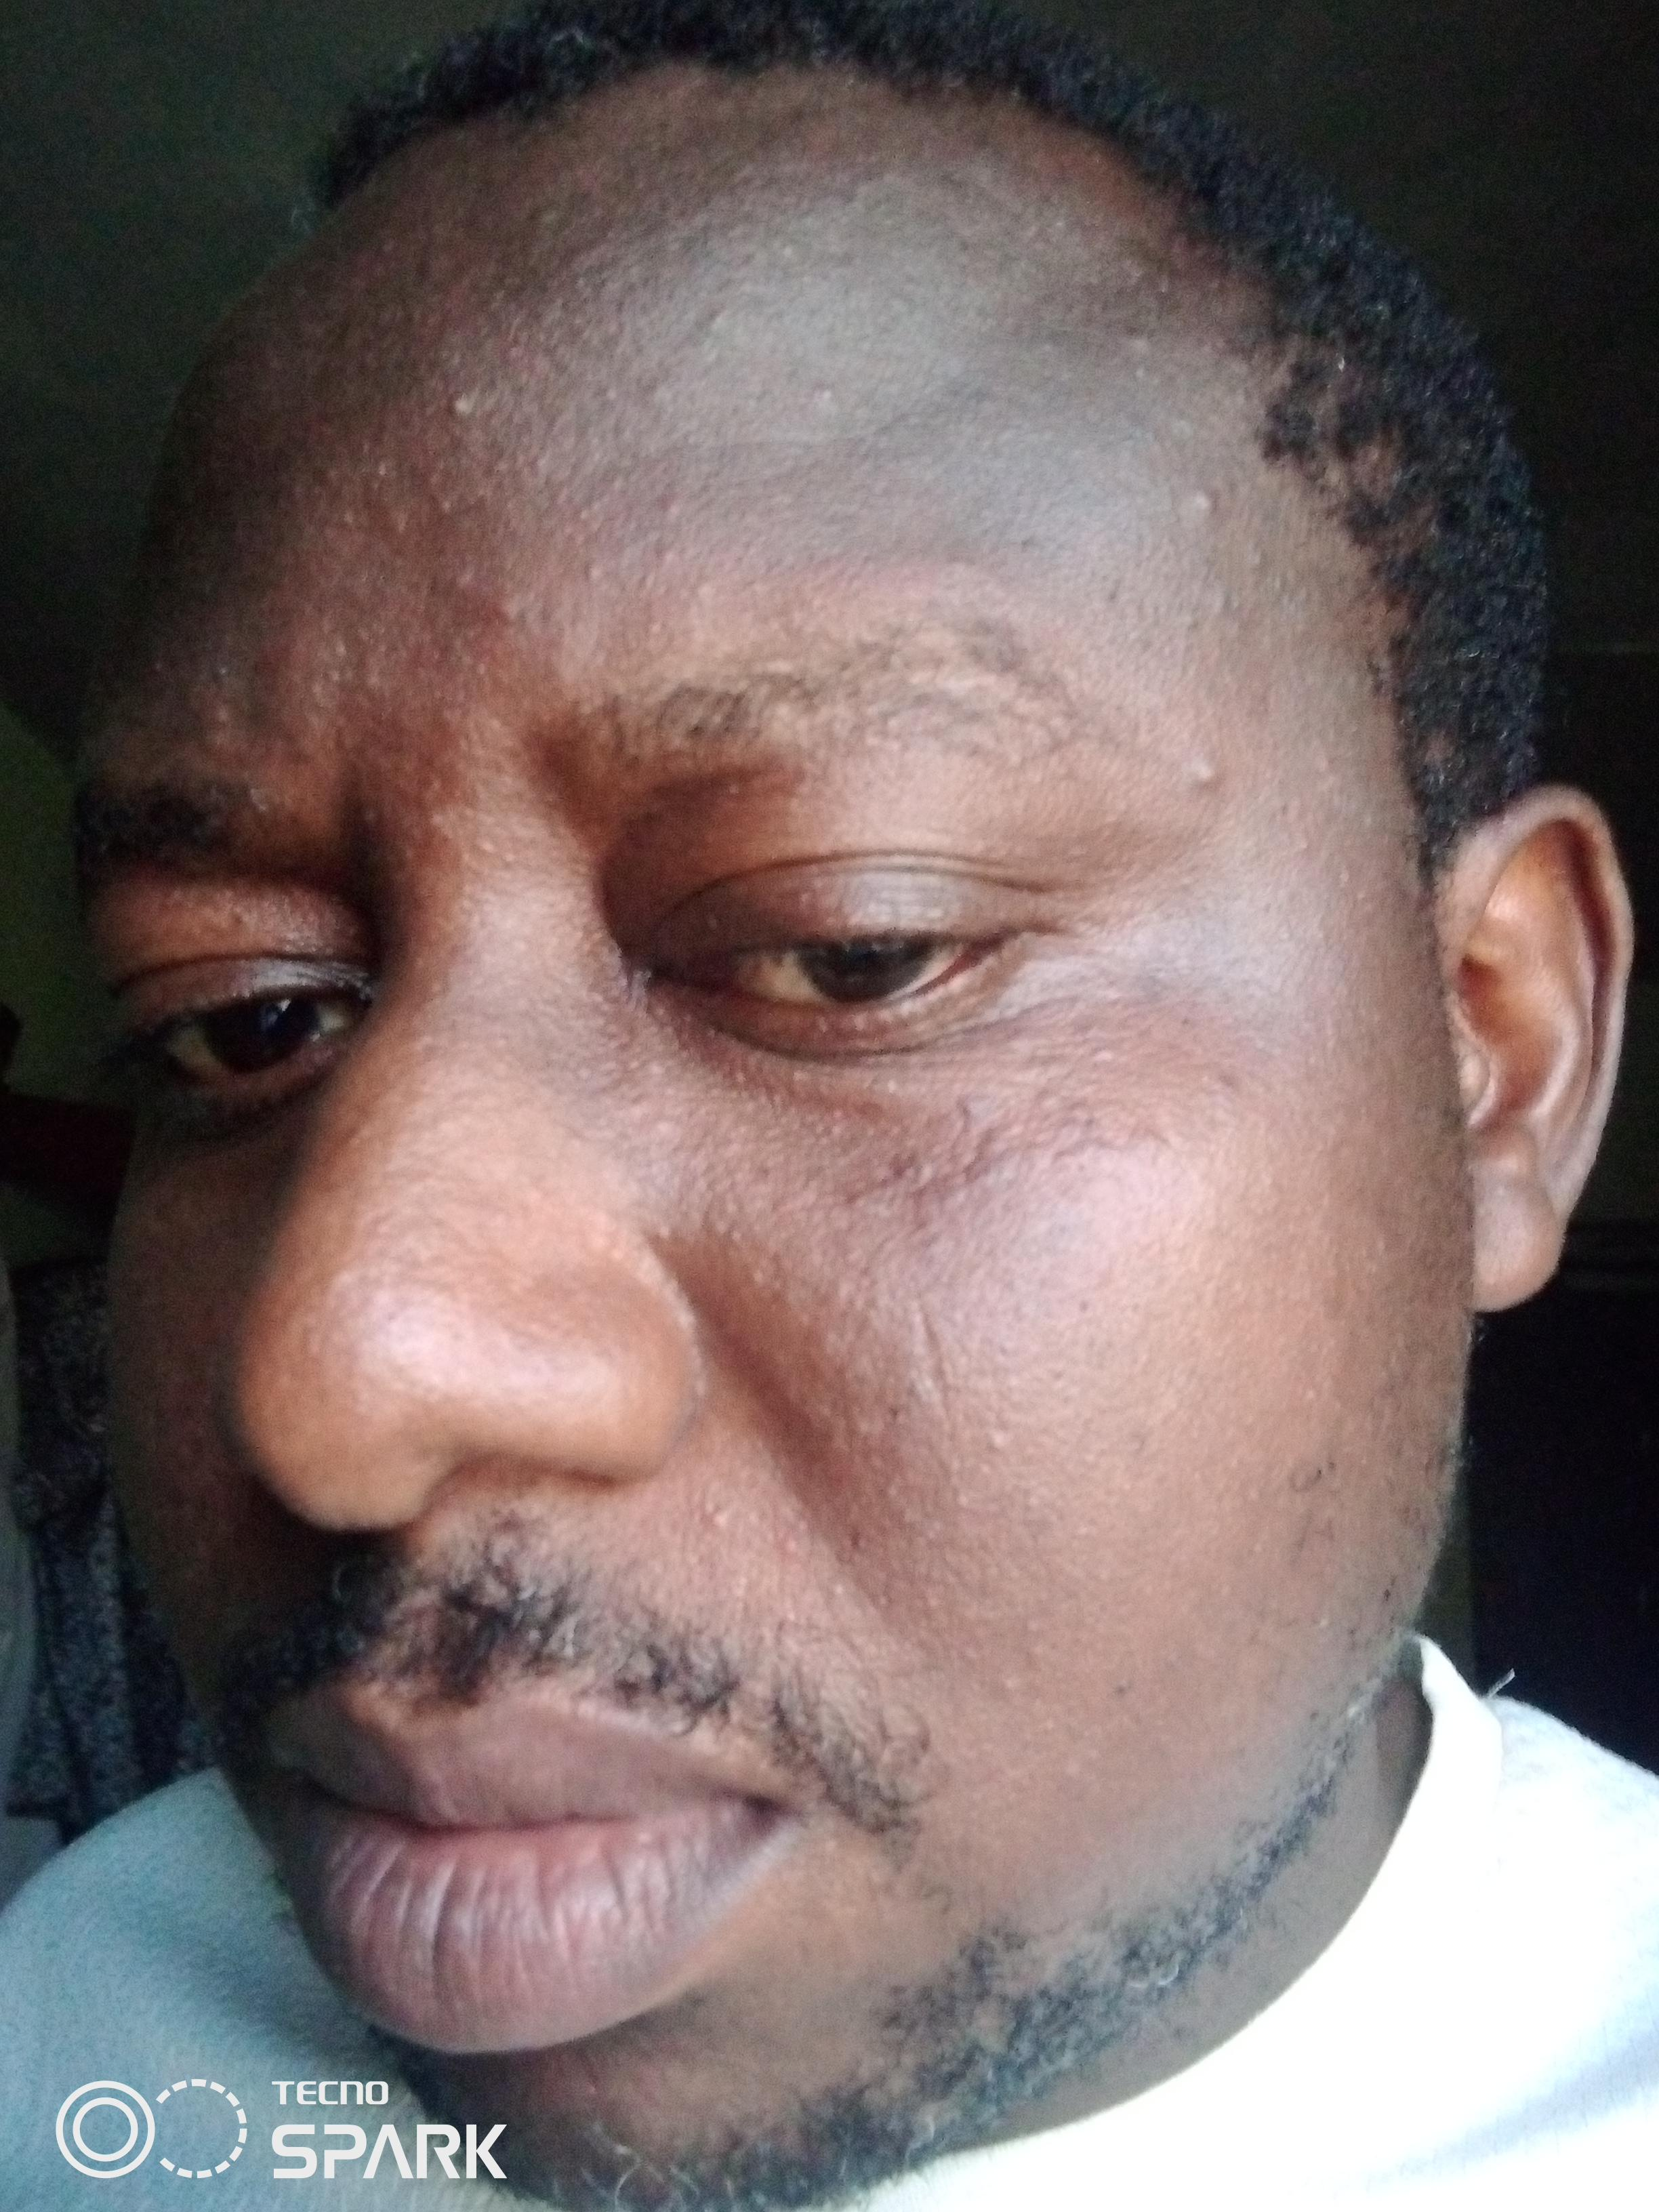Acne: (829, 1069, 1140, 1237), (410, 733, 465, 866), (448, 563, 540, 632), (648, 472, 695, 585), (376, 489, 469, 540), (960, 1414, 1030, 1468), (430, 381, 486, 435), (200, 683, 254, 737), (1208, 570, 1251, 634), (690, 1484, 741, 1538), (803, 369, 847, 420), (1185, 749, 1225, 803), (688, 294, 735, 340), (1185, 467, 1222, 519)
Wrinkles: (573, 439, 931, 463)
